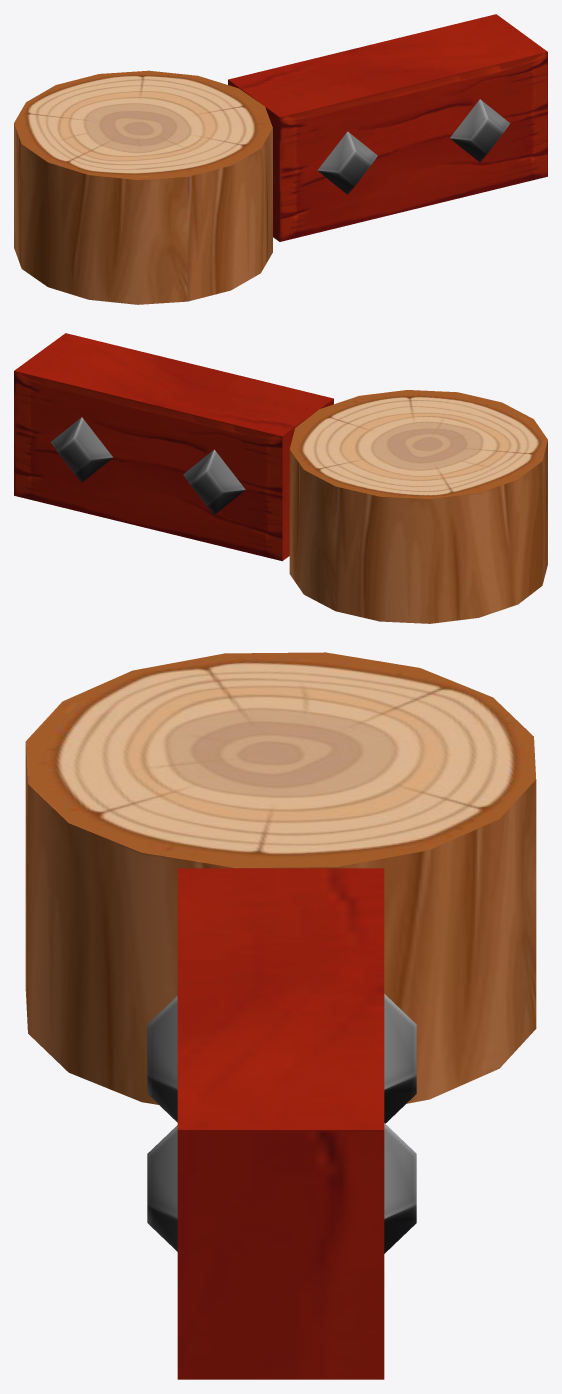
Rendered from one_blade_red_01.fbx.
3 views of the same model, one above another, from view 1: azimuth 30°, elevation 25°; view 2: azimuth 150°, elevation 25°; view 3: azimuth 270°, elevation 25° (orthographic). The views are drawn at different scales.
Parts seen in each view (by area): view 1: wood_center_2, Blade_43, Blade_41, Blade_42; view 2: wood_center_2, Blade_43, Blade_39, Blade_40; view 3: wood_center_2, Blade_43, Blade_40, Blade_39, Blade_42, Blade_41.
Part boxes in pixels (<box>): wood_center_2: <box>14,70,272,304</box>; Blade_43: <box>228,14,547,241</box>; Blade_41: <box>450,99,510,162</box>; Blade_42: <box>317,131,377,194</box>; wood_center_2: <box>289,390,547,623</box>; Blade_43: <box>14,333,333,561</box>; Blade_39: <box>183,449,245,514</box>; Blade_40: <box>50,417,112,482</box>; wood_center_2: <box>25,652,536,1104</box>; Blade_43: <box>177,868,384,1379</box>; Blade_40: <box>384,1123,416,1253</box>; Blade_39: <box>384,994,416,1123</box>; Blade_42: <box>147,996,177,1122</box>; Blade_41: <box>147,1125,177,1251</box>.
Bounding box in the file's own units: 164 × 40 × 74.15.
